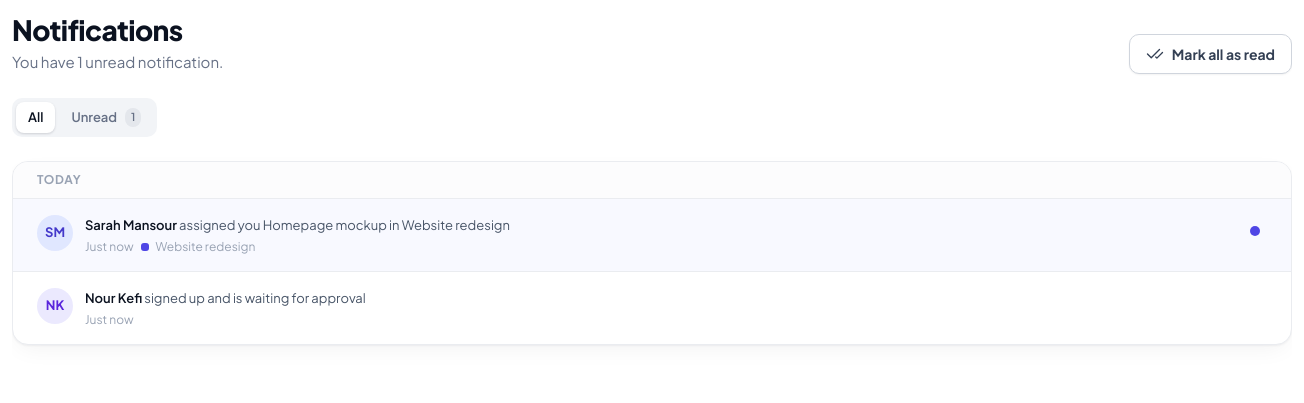
Test case: Notifications page › filters unread notifications
Check: the element "Today" is shown, box [13,162,1291,344]
Click the button "Unread 1" at [106, 117], box [59,102,153,133]
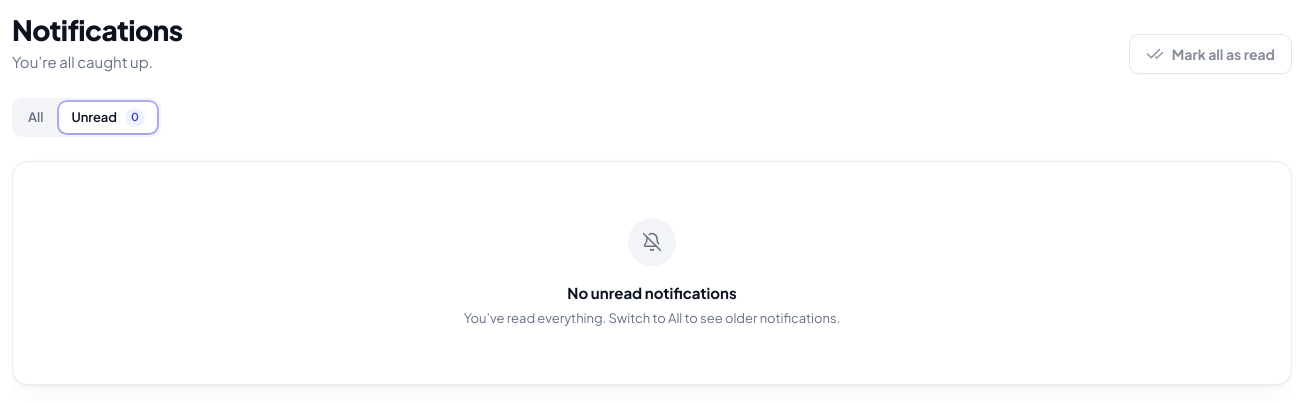
Check: the text "No unread notifications" is shown, box [567,282,737,304]
